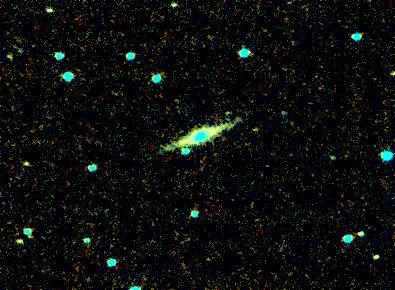star: (239, 114, 269, 144)
